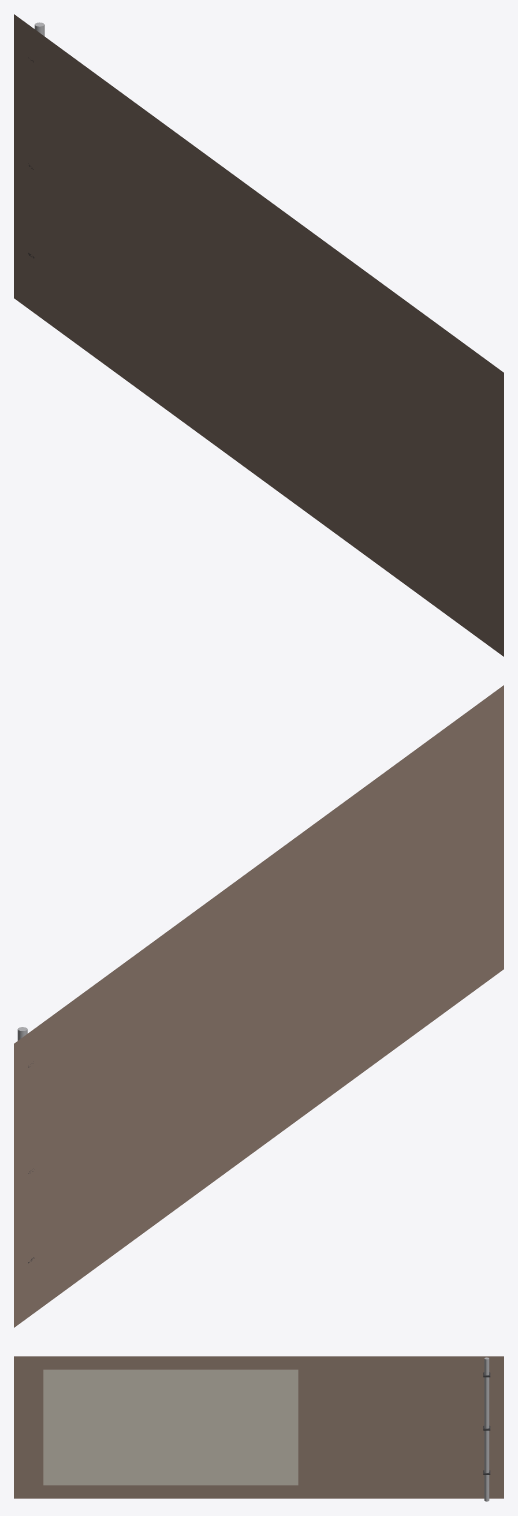
The model's file is side_upper_ad_10.glb.
3 renders of one model, top to bottom at view 1: azimuth 30°, elevation 25°; view 2: azimuth 150°, elevation 25°; view 3: azimuth 270°, elevation 25°, orthographic. The views are drawn at different scales.
Visible parts, largest first — view 1: side_upper_ad_10; view 2: side_upper_ad_10; view 3: side_upper_ad_10.
Part boxes in pixels (x1,y1,x2,y2): side_upper_ad_10: [14, 14, 503, 656]; side_upper_ad_10: [14, 685, 503, 1327]; side_upper_ad_10: [14, 1356, 503, 1501].
Bounding box in the file's own units: 0.16 × 3.2 × 10.
